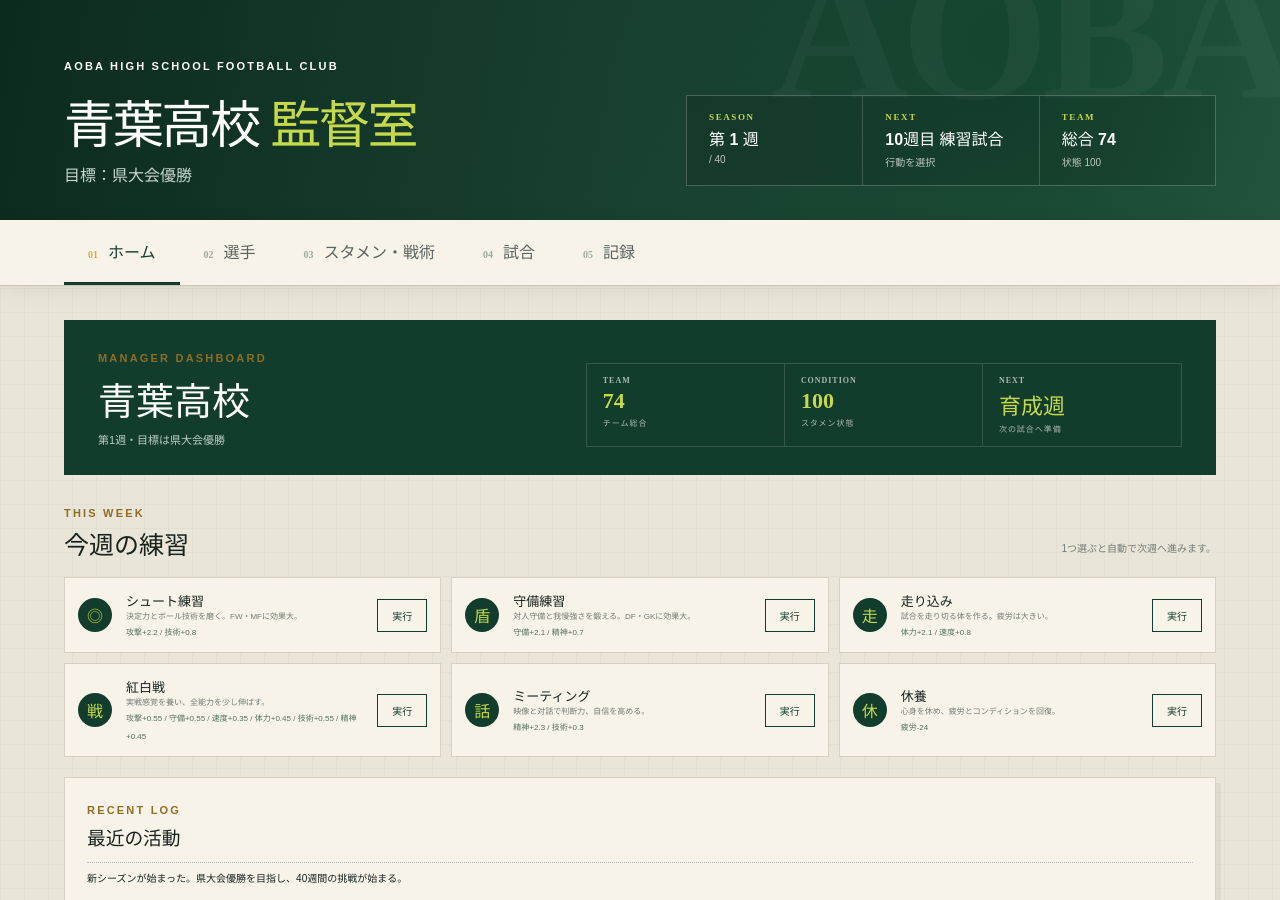
navigation and home training › runs training from home and advances to the next week
The image size is (1280, 900).
Click the button "実行" next to "決定力とボール技術を磨く。FW・MFに効果大。" at (402, 615), box [377,598,427,632]
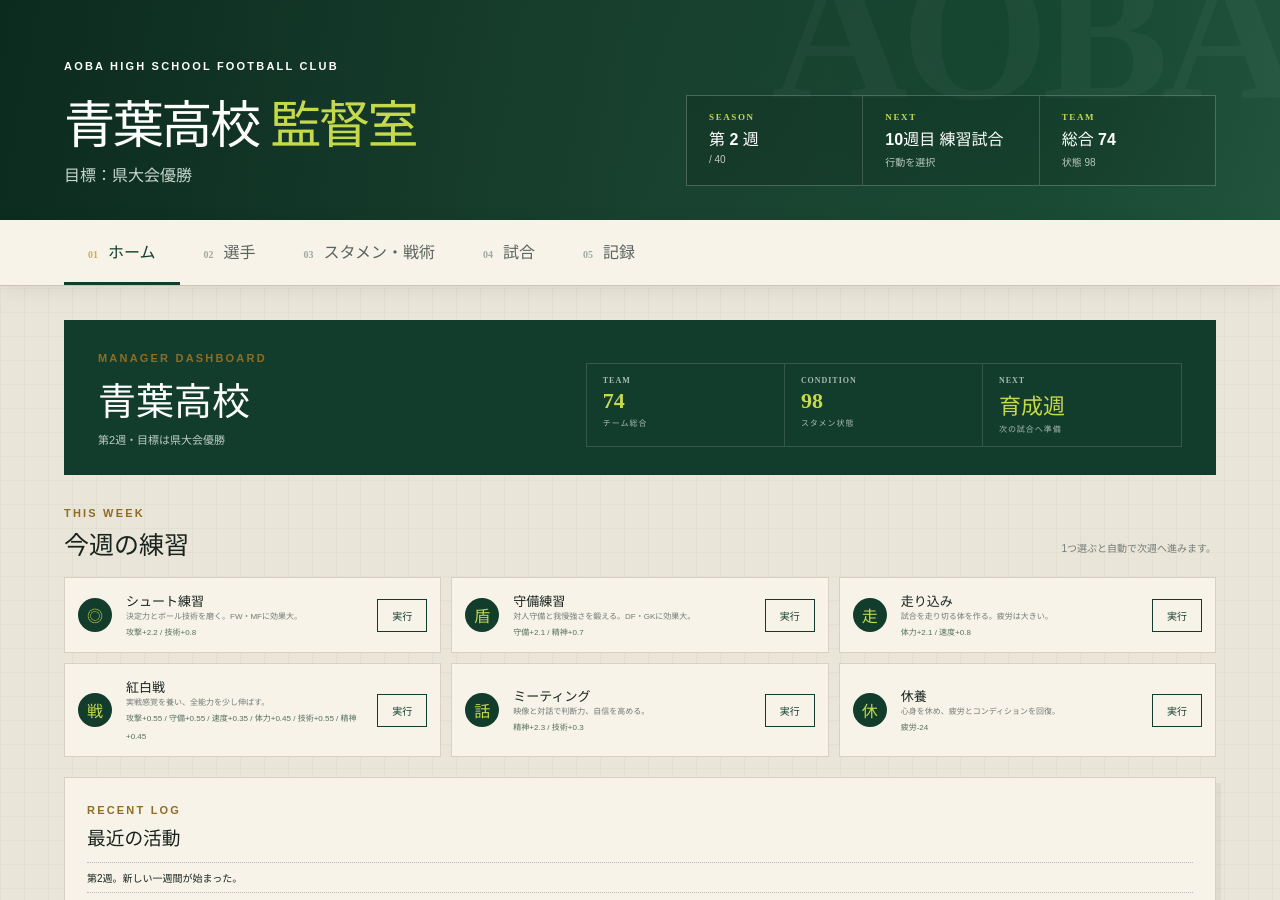
Expected: the text "第2週・目標は県大会優勝" is shown, [98,434,225,446]
